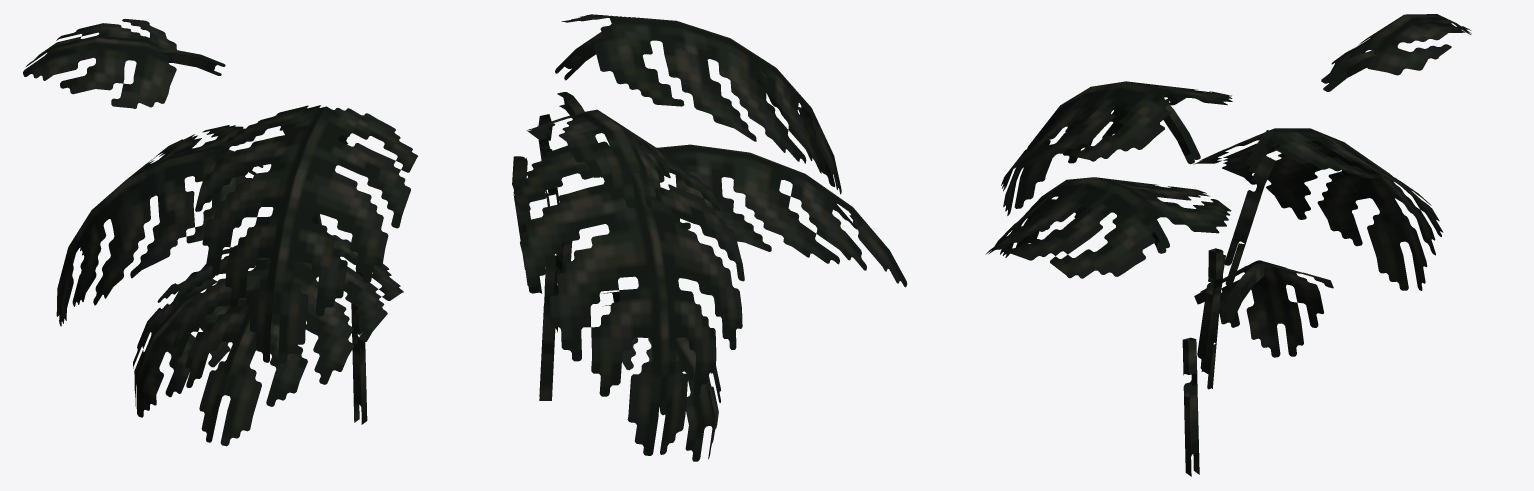
File: EnvFldMD_Grass_G_L.FBX
3 renders of one model, left to right at view 1: azimuth 30°, elevation 25°; view 2: azimuth 150°, elevation 25°; view 3: azimuth 270°, elevation 25°, orthographic. The views are drawn at different scales.
Visible parts, largest first — view 1: EnvFldMD_Grass_G_L; view 2: EnvFldMD_Grass_G_L; view 3: EnvFldMD_Grass_G_L.
Part boxes in pixels (left/top/right/bottom): EnvFldMD_Grass_G_L: left=23, top=19, right=417, bottom=446; EnvFldMD_Grass_G_L: left=512, top=14, right=907, bottom=461; EnvFldMD_Grass_G_L: left=985, top=14, right=1471, bottom=476.
Size of the model in its own units: 202 by 220 by 309.
Materials: 1 (1 with a texture image).
